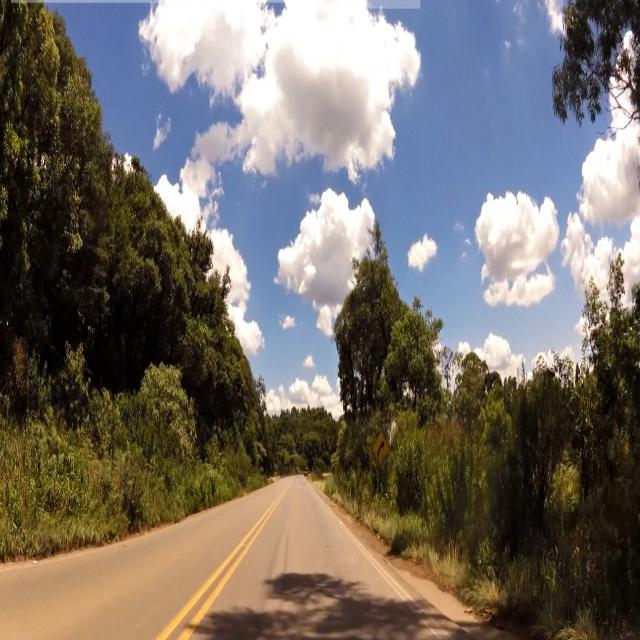A-2b: (372, 427, 392, 473)
